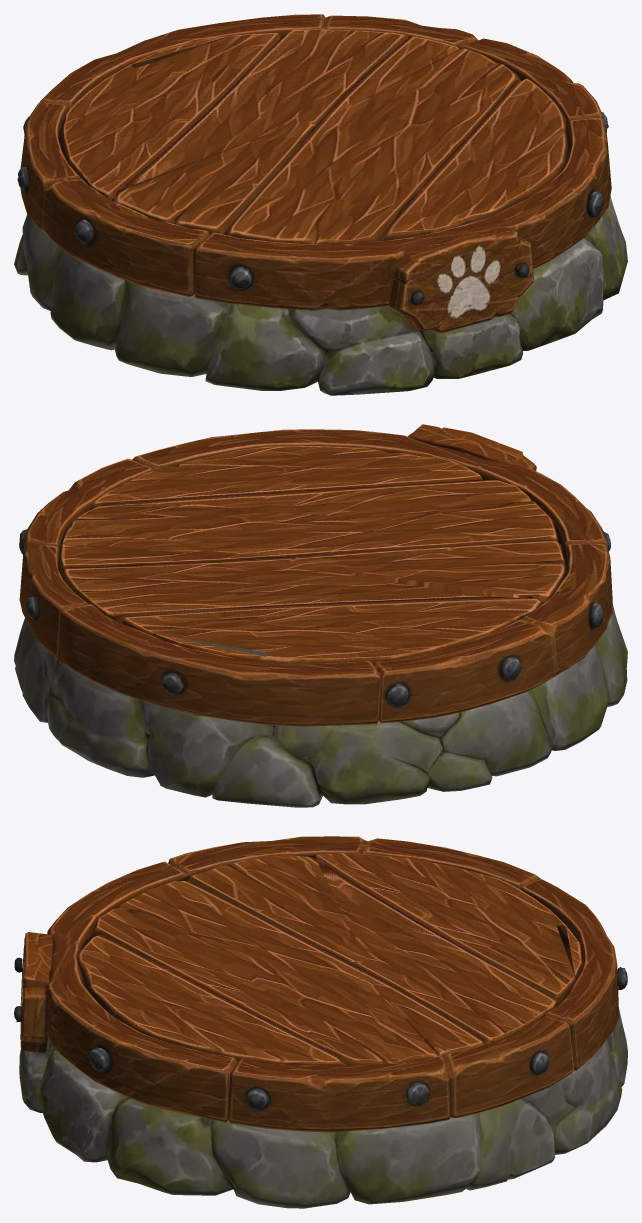
Rendered from enclos_socle.glb.
The picture shows the model from 3 angles, top to bottom: view 1: azimuth 30°, elevation 25°; view 2: azimuth 150°, elevation 25°; view 3: azimuth 270°, elevation 25°; orthographic projection.
Bounding box in the file's own units: 0.9233 × 0.228 × 0.9478.
1 material, 1 textured.
